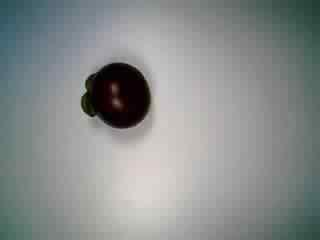mangosteen: (70, 53, 152, 130)
